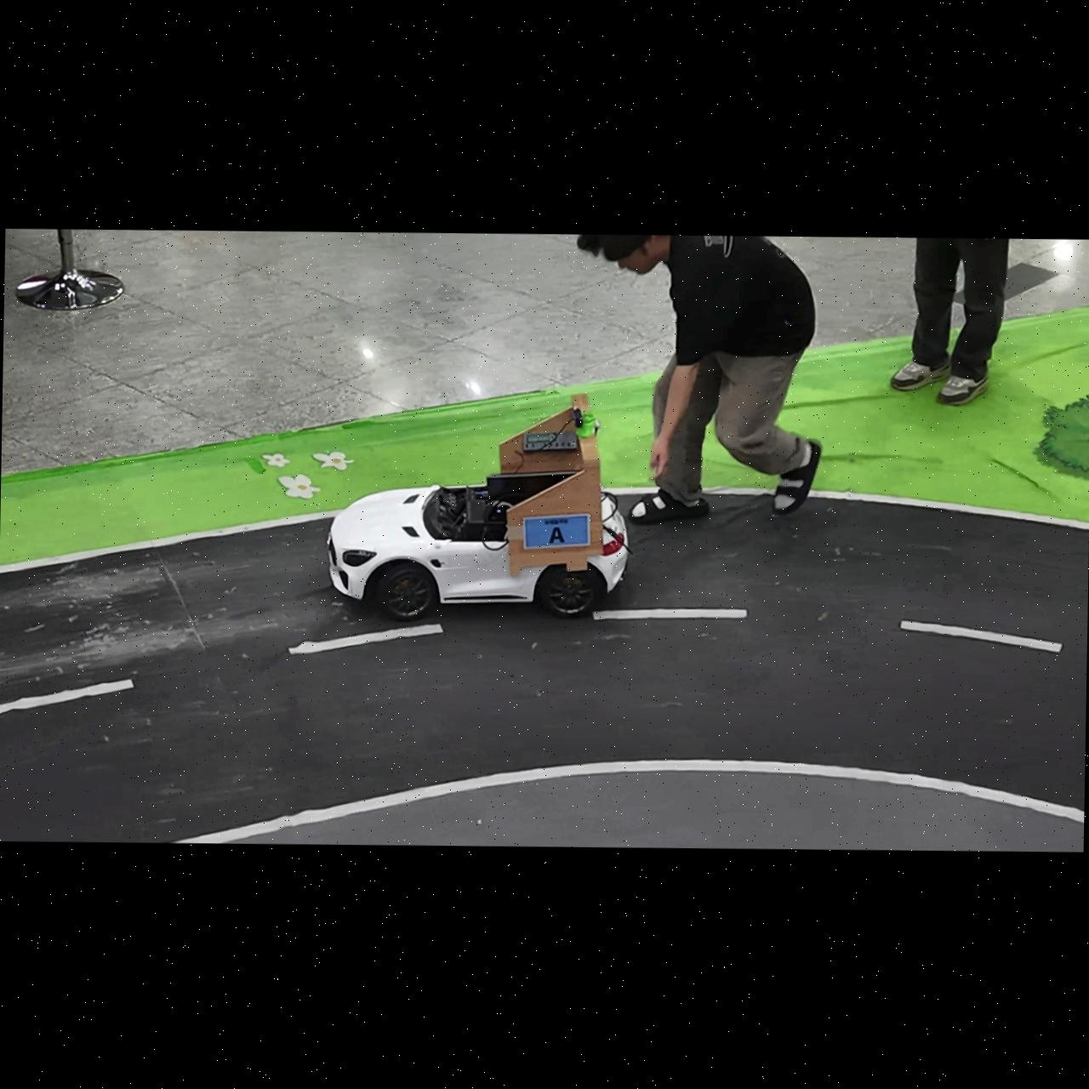broken_line: (900, 620, 1062, 652), (0, 679, 134, 714), (288, 624, 443, 654), (593, 609, 747, 620)
